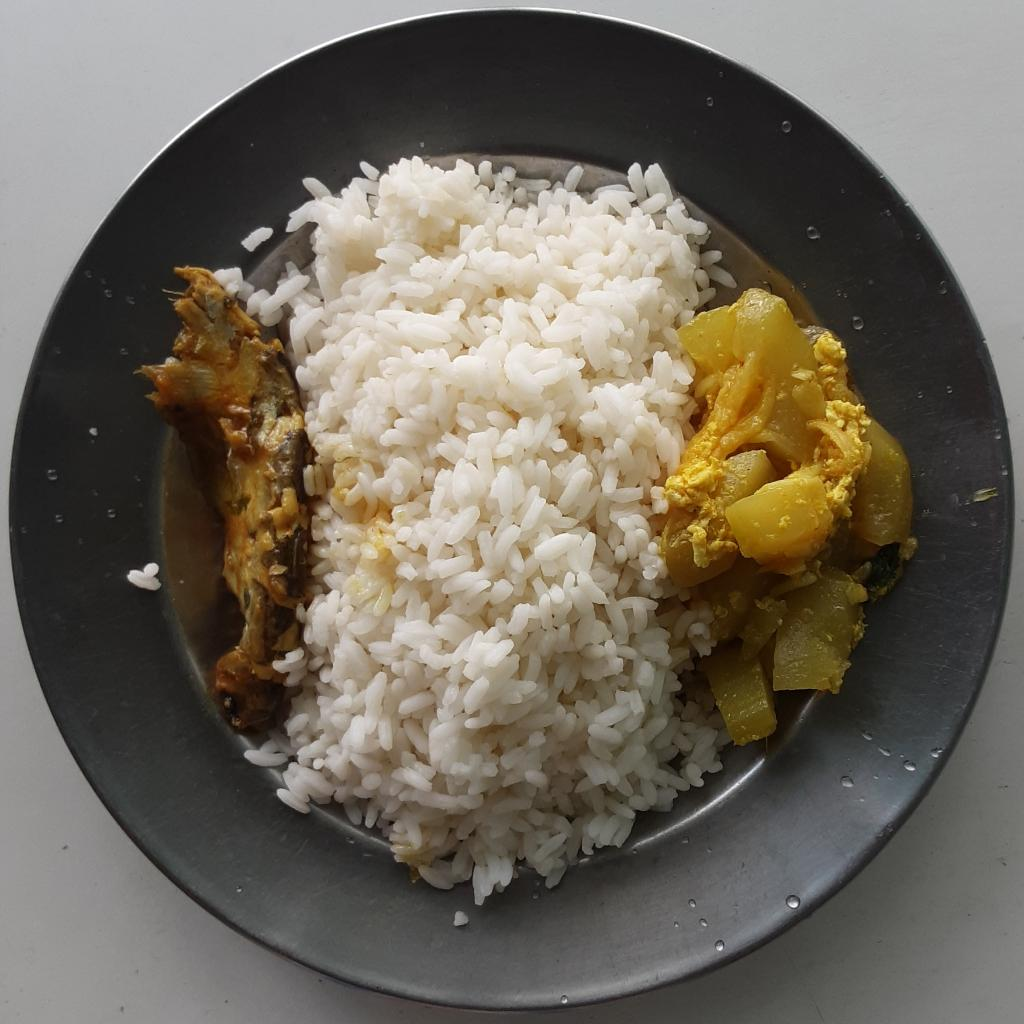fish: (144, 267, 319, 741)
lau: (660, 287, 919, 746)
rice: (211, 157, 738, 901)
